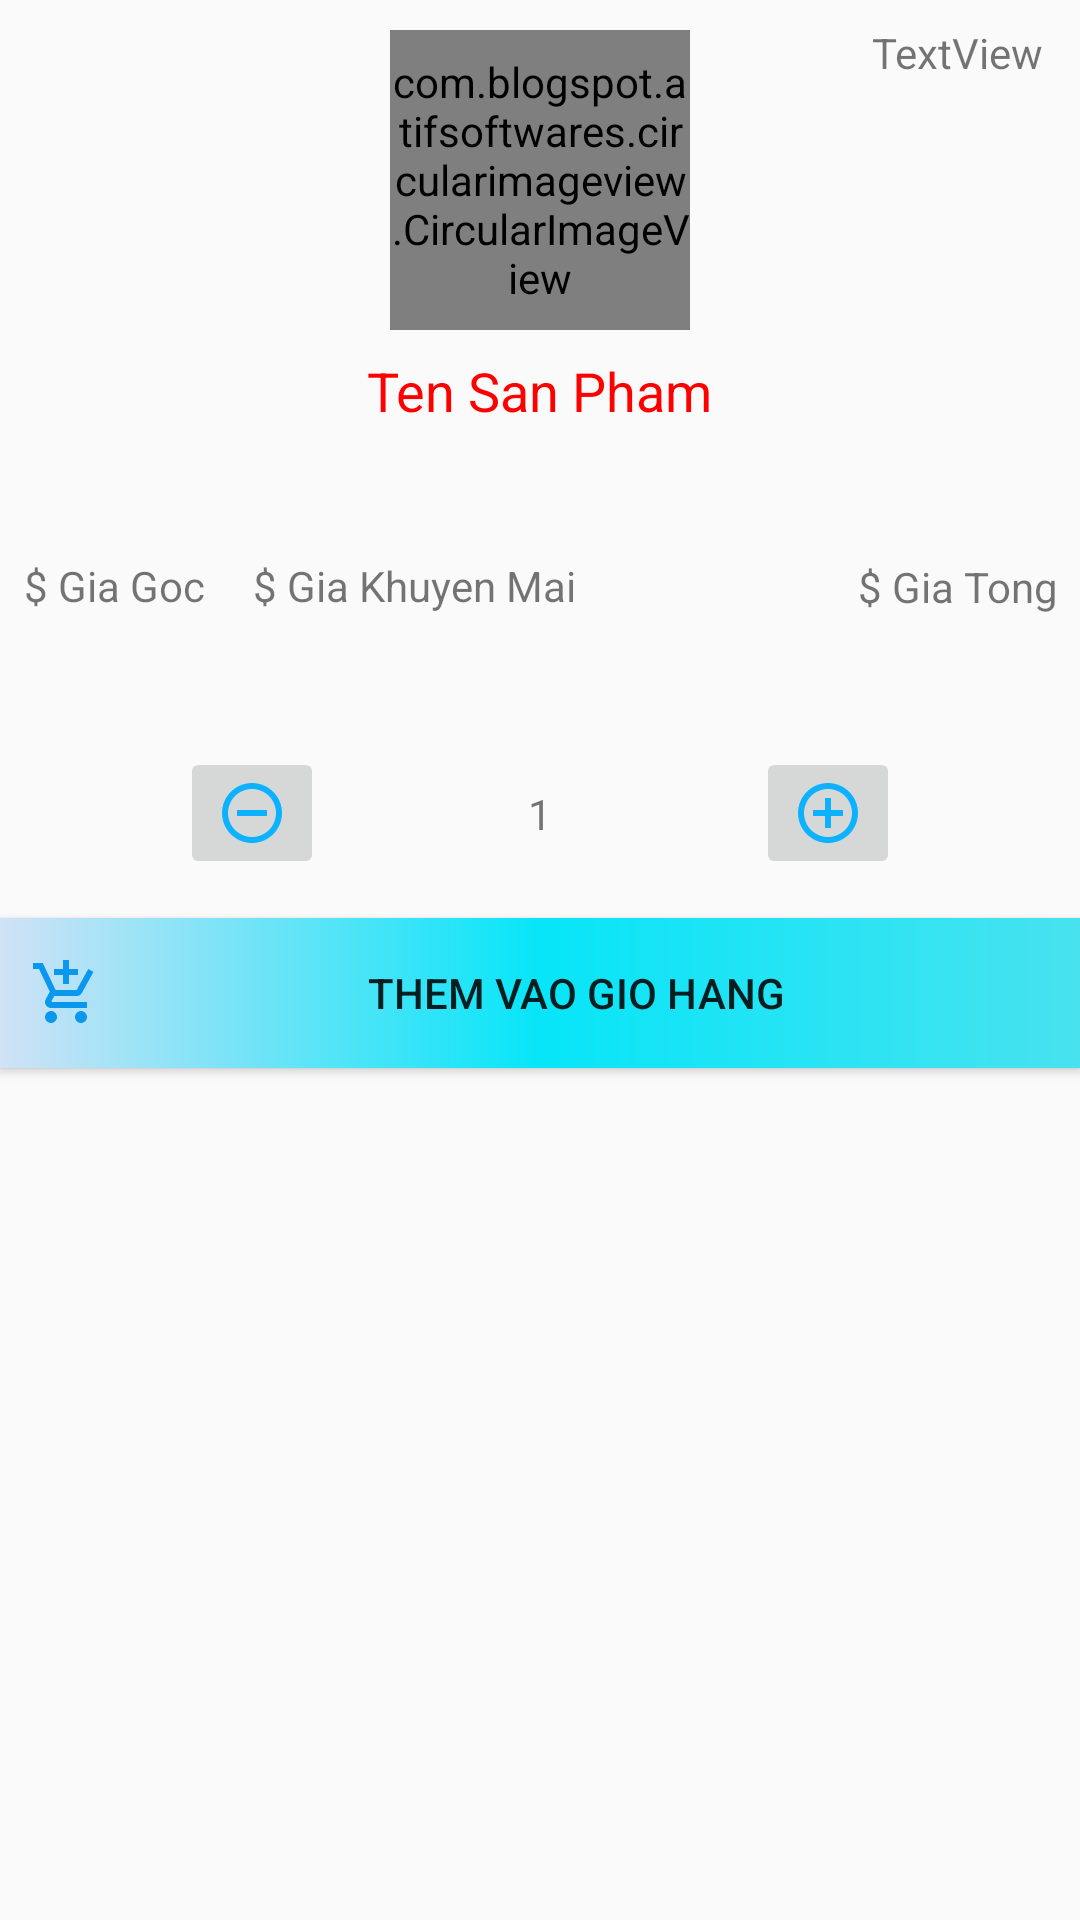

Icons on this 1080px x 1920px Android screen, each with the point to tap as [x,y]:
add: [828,813]
remove: [252,813]
